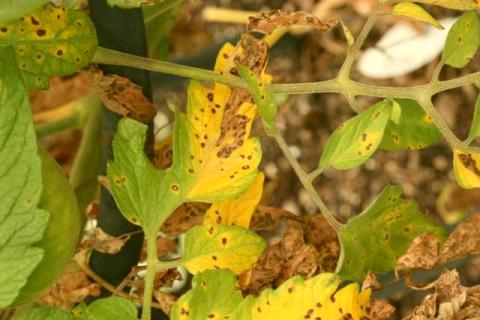Tomato Septoria leaf spot: (150, 38, 283, 230), (176, 217, 268, 284)
